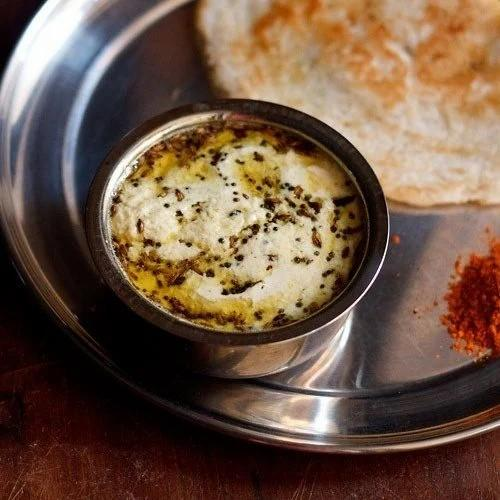CoconutChutney: (113, 128, 360, 331)
